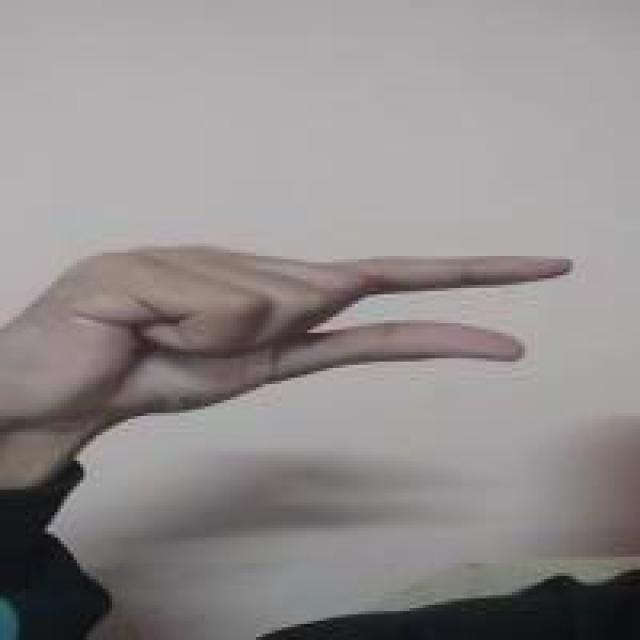G: (0, 219, 573, 459)
